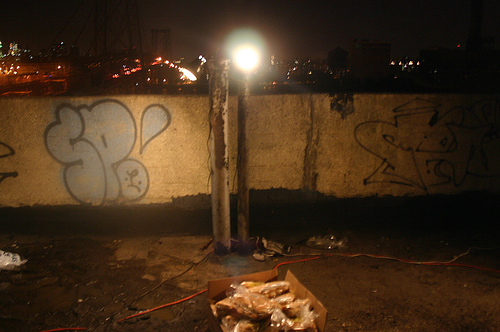graffiti: (42, 99, 175, 206), (352, 95, 474, 190), (1, 142, 22, 183)
